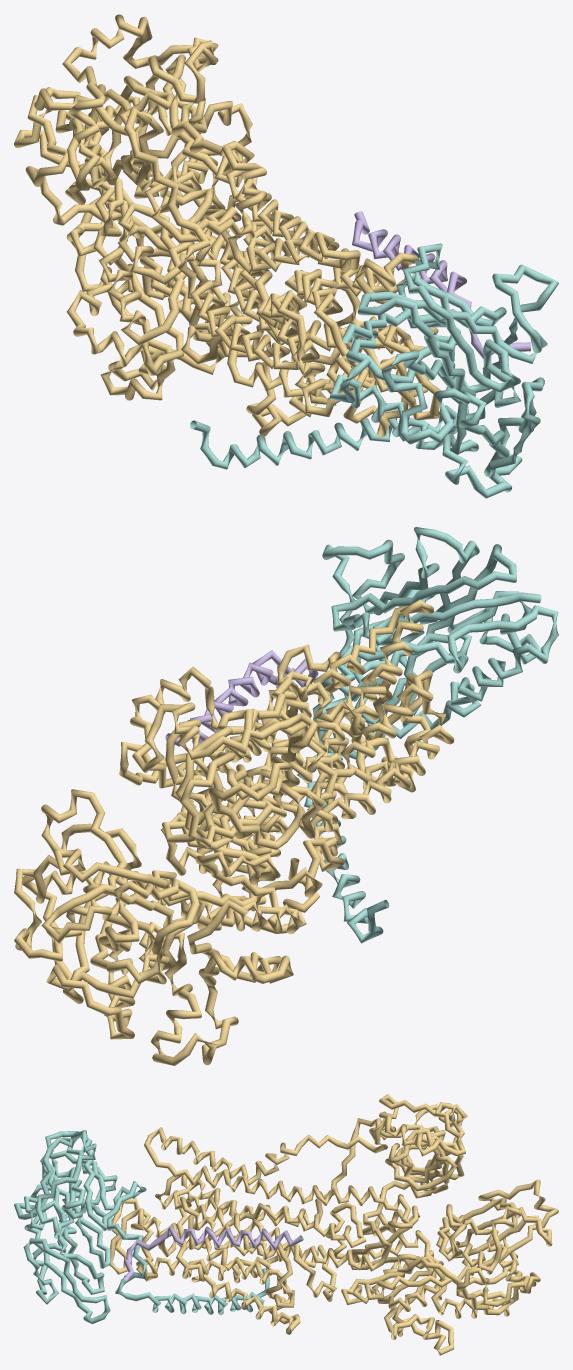
Rendered from 9ron-backbone.glb.
3 renders of one model, top to bottom at view 1: azimuth 30°, elevation 25°; view 2: azimuth 150°, elevation 25°; view 3: azimuth 270°, elevation 25°, orthographic. The views are drawn at different scales.
Parts seen in each view (by area): view 1: 9RON chain A, 9RON chain B, 9RON chain C; view 2: 9RON chain A, 9RON chain B, 9RON chain C; view 3: 9RON chain A, 9RON chain B, 9RON chain C.
Boxes of the visible parts, box(x1,y1,x2,y2) form: 9RON chain A: box(14, 14, 440, 437); 9RON chain B: box(190, 243, 558, 498); 9RON chain C: box(352, 211, 530, 359); 9RON chain A: box(14, 599, 454, 1065); 9RON chain B: box(297, 527, 558, 943); 9RON chain C: box(165, 650, 318, 746); 9RON chain A: box(109, 1094, 558, 1355); 9RON chain B: box(14, 1130, 269, 1323); 9RON chain C: box(123, 1225, 303, 1280).
Bounding box in the file's own units: 0.8852 × 1.2 × 2.43.
